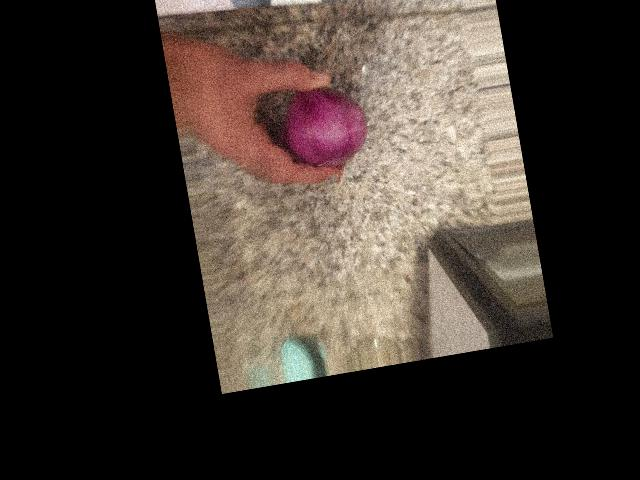onion: (387, 127, 485, 223)
